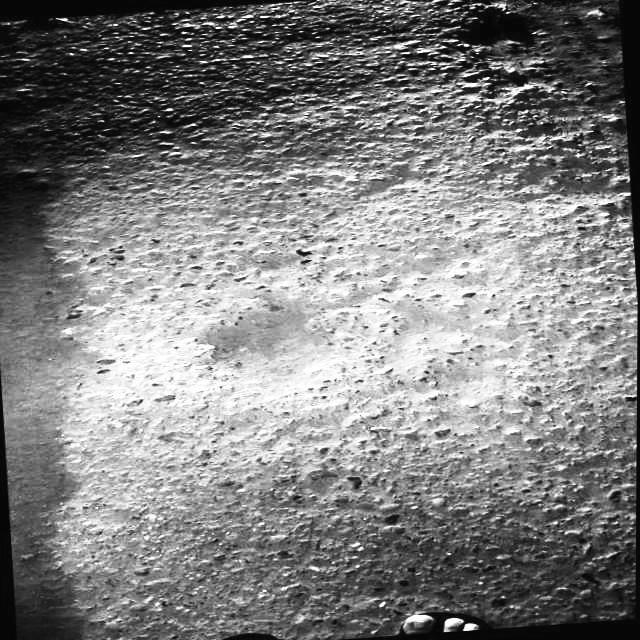Pothole: (203, 284, 330, 396), (446, 1, 547, 55)
